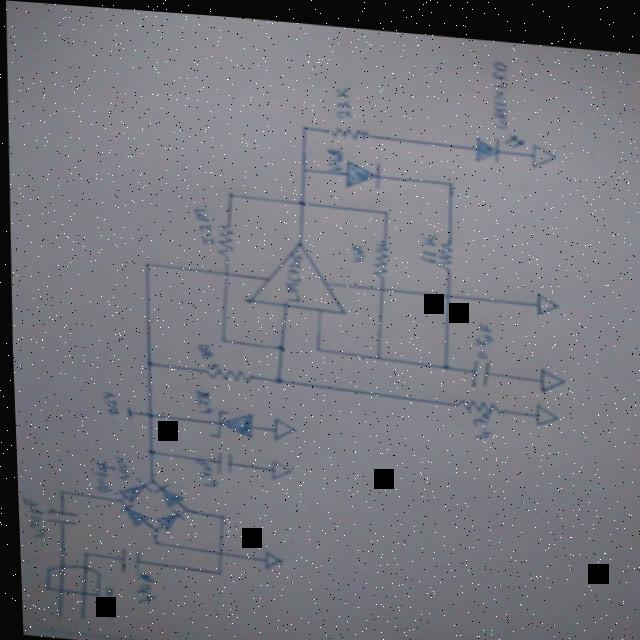capacitor: (465, 351, 490, 382), (114, 544, 138, 572), (41, 507, 75, 525), (211, 446, 232, 471)
crossover: (212, 544, 222, 553), (375, 278, 385, 286), (441, 284, 449, 292), (220, 265, 227, 273)
diode: (470, 121, 526, 159), (204, 403, 251, 437), (342, 153, 383, 185), (113, 472, 148, 501), (149, 478, 180, 506), (114, 500, 146, 527), (149, 504, 181, 531)
ground: (528, 134, 557, 161), (536, 359, 563, 384), (531, 394, 557, 419), (267, 412, 293, 437), (533, 284, 558, 309), (265, 455, 289, 476), (258, 547, 279, 566)
junction: (268, 370, 282, 381), (52, 485, 64, 495), (296, 193, 307, 202), (438, 354, 448, 363), (379, 202, 390, 210), (177, 502, 186, 511), (211, 565, 221, 573), (140, 257, 150, 265), (371, 347, 381, 355), (298, 160, 308, 167), (142, 409, 151, 416), (147, 537, 156, 544), (213, 510, 223, 516), (225, 188, 235, 194), (274, 339, 282, 346), (217, 333, 226, 339), (312, 341, 321, 347), (145, 475, 152, 482), (112, 495, 120, 501), (143, 447, 151, 453), (142, 358, 150, 364), (147, 524, 155, 530), (77, 550, 85, 555), (299, 120, 307, 125), (445, 173, 453, 178)
resistor: (367, 234, 392, 273), (211, 218, 236, 256), (201, 362, 252, 380), (450, 390, 500, 408), (326, 118, 368, 135), (435, 233, 454, 264)
terminal: (48, 608, 61, 619), (70, 611, 83, 622), (121, 404, 129, 416)
text: (487, 51, 512, 122), (14, 495, 45, 538), (281, 247, 303, 298), (469, 313, 494, 352), (190, 203, 214, 243), (88, 456, 113, 492), (129, 570, 154, 603), (191, 455, 217, 485), (332, 78, 354, 113), (468, 403, 493, 433), (415, 225, 437, 259), (194, 339, 218, 366), (95, 583, 113, 618), (191, 385, 212, 411), (323, 140, 343, 167), (98, 388, 117, 415), (110, 454, 128, 478), (348, 236, 364, 258)
